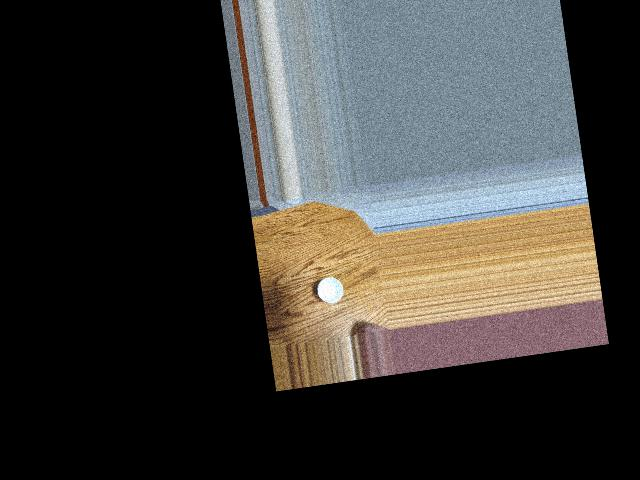cotage: (316, 272, 346, 308)
